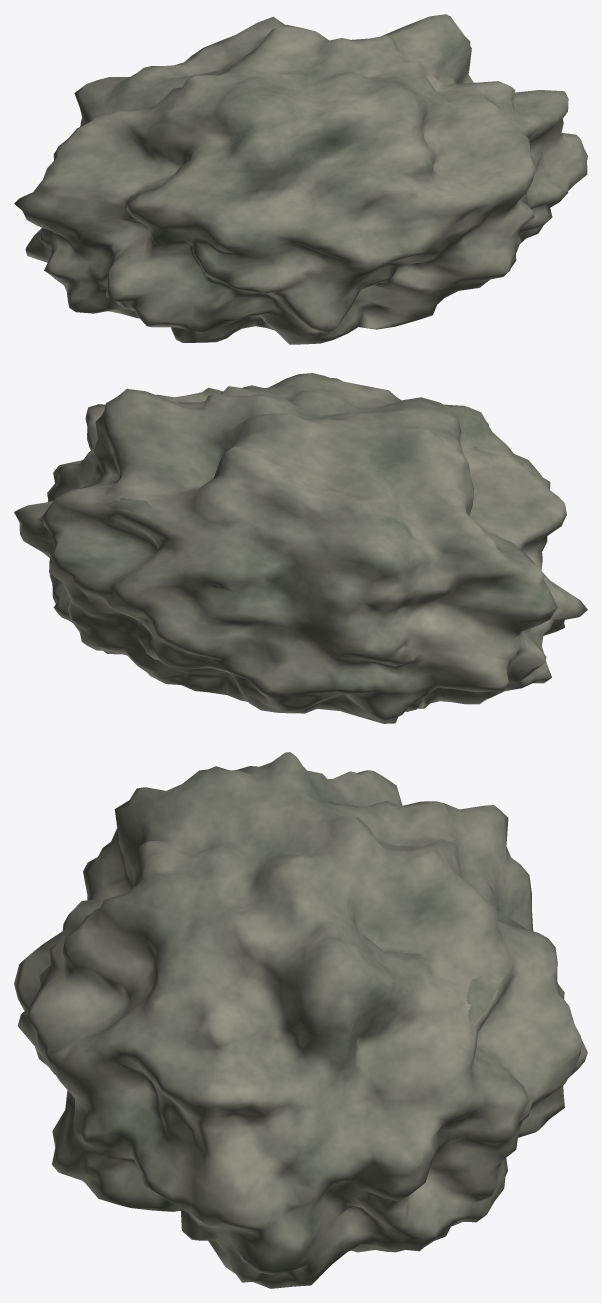
Rendered from reef_rock_lod0.glb.
3 renders of one model, top to bottom at view 1: azimuth 30°, elevation 25°; view 2: azimuth 150°, elevation 25°; view 3: azimuth 270°, elevation 25°, orthographic. The views are drawn at different scales.
Parts seen in each view (by area): view 1: reef_rock_LOD0; view 2: reef_rock_LOD0; view 3: reef_rock_LOD0.
Part boxes in pixels (x1=…): reef_rock_LOD0: x1=14, y1=14, x2=587, y2=344; reef_rock_LOD0: x1=14, y1=373, x2=587, y2=723; reef_rock_LOD0: x1=14, y1=752, x2=587, y2=1288.
Bounding box in the file's own units: 2.02 × 0.8928 × 1.39.
1 material, 1 textured.
